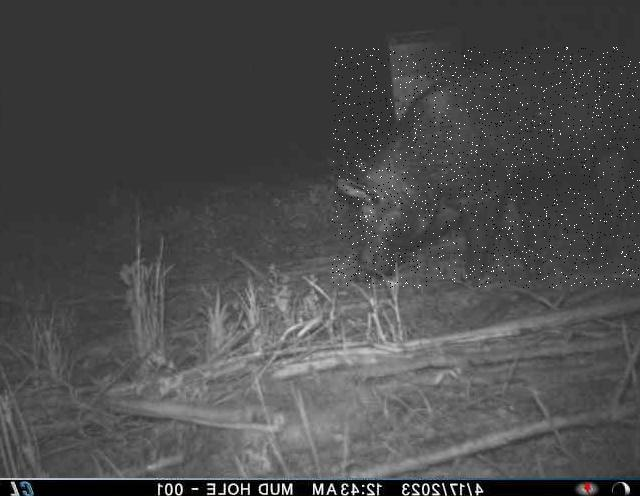Hog: (332, 47, 640, 288)
